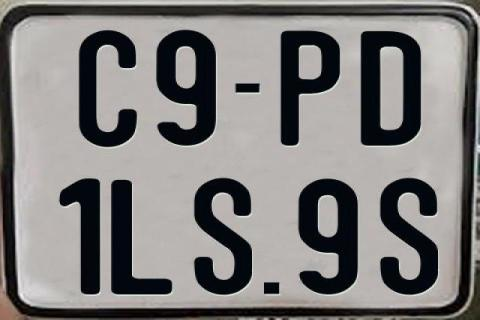0: (296, 176, 362, 294), (156, 27, 218, 144), (59, 177, 101, 293)
C: (76, 29, 138, 147)
D: (358, 31, 423, 147)
L: (111, 180, 176, 298)
P: (280, 29, 344, 145)
S: (380, 178, 444, 298), (193, 178, 251, 300)
